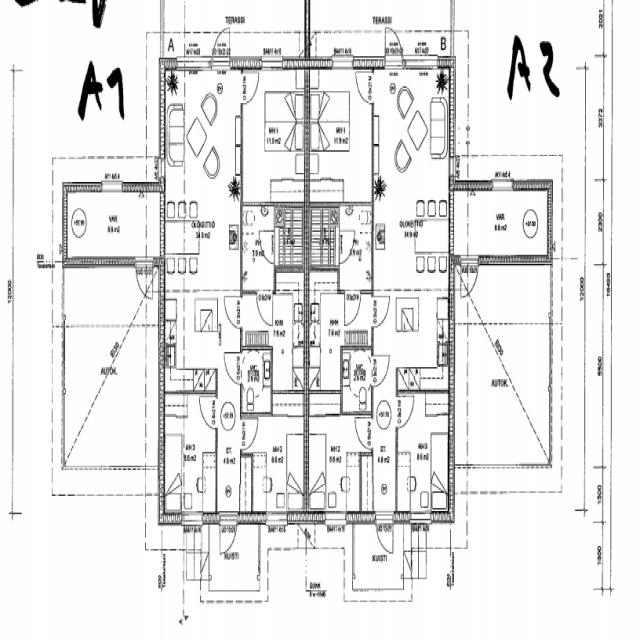door: (337, 205, 372, 287), (241, 207, 277, 284), (382, 23, 405, 68), (257, 222, 277, 272), (210, 26, 233, 66), (240, 64, 261, 106), (197, 390, 218, 432), (374, 510, 394, 554), (371, 289, 392, 330), (218, 512, 238, 555), (222, 288, 242, 331), (342, 286, 362, 329), (240, 413, 262, 451), (354, 67, 374, 106), (222, 346, 242, 385), (255, 287, 274, 328), (352, 412, 373, 449), (395, 392, 416, 429), (371, 351, 391, 389), (337, 227, 355, 265)
window: (546, 308, 560, 380), (404, 54, 443, 73), (322, 507, 349, 529), (264, 508, 288, 532), (259, 52, 287, 72), (180, 55, 211, 73), (182, 510, 204, 531), (330, 52, 353, 72), (490, 174, 512, 190)
zone: (58, 253, 162, 473), (453, 257, 552, 472), (369, 53, 452, 288), (162, 59, 245, 287), (307, 65, 373, 206), (242, 65, 308, 205), (240, 291, 304, 409), (451, 185, 549, 261), (64, 186, 162, 262), (396, 389, 451, 517), (161, 394, 216, 516), (242, 412, 309, 512), (163, 280, 219, 392), (305, 411, 366, 512), (307, 272, 341, 402), (323, 323, 370, 409), (338, 204, 374, 290), (363, 427, 397, 518), (242, 204, 278, 287), (244, 284, 296, 340), (341, 344, 374, 411), (240, 345, 272, 412), (309, 201, 338, 266), (277, 202, 305, 268)
